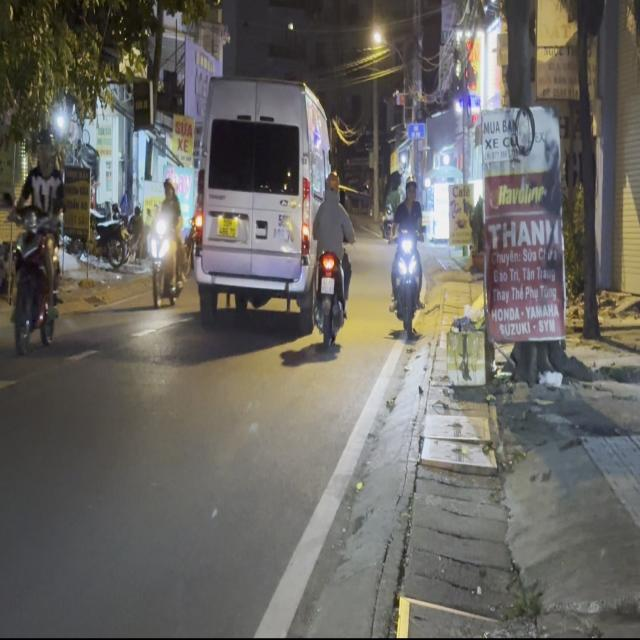helmet: (35, 129, 56, 168), (324, 169, 339, 197), (162, 170, 176, 198)
licenseplate: (7, 127, 65, 355), (308, 169, 353, 345), (144, 169, 187, 310)
nohelmet: (321, 277, 335, 293)
